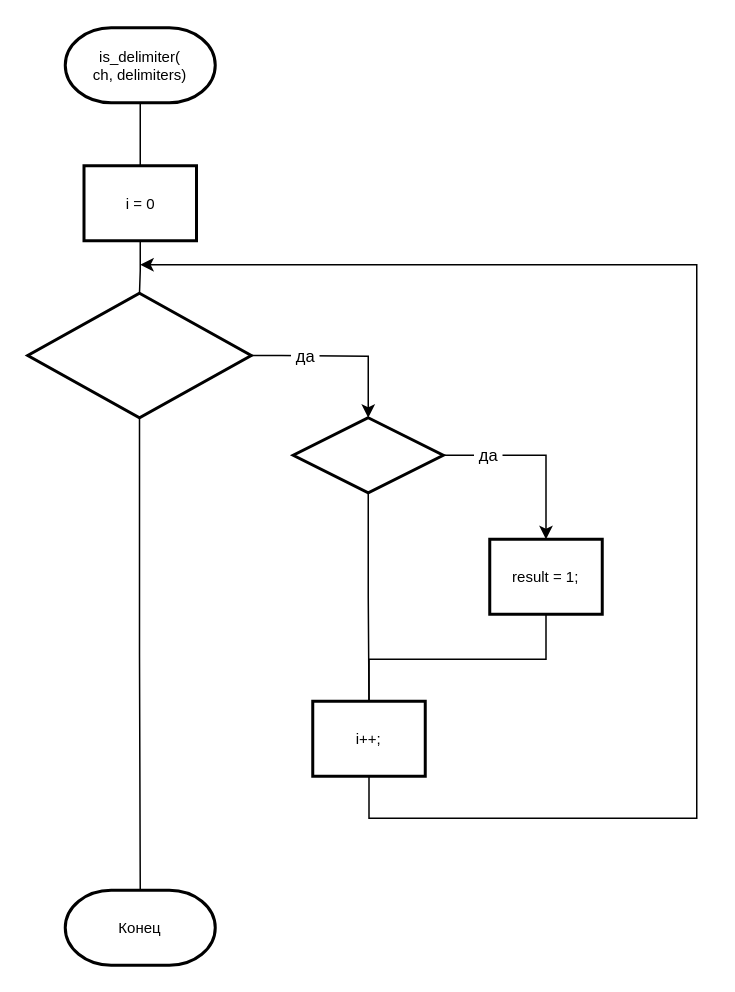
Some shapes in this 735 by 992 pixel diagram are drawn without their labels. The centre of each missing label's shape, as x and y in pixels:
"ch == delimiters[i]?" belongs at (x=367, y=455).
"delimiters[i] != '\0' && result == 0?" belongs at (x=139, y=354).
